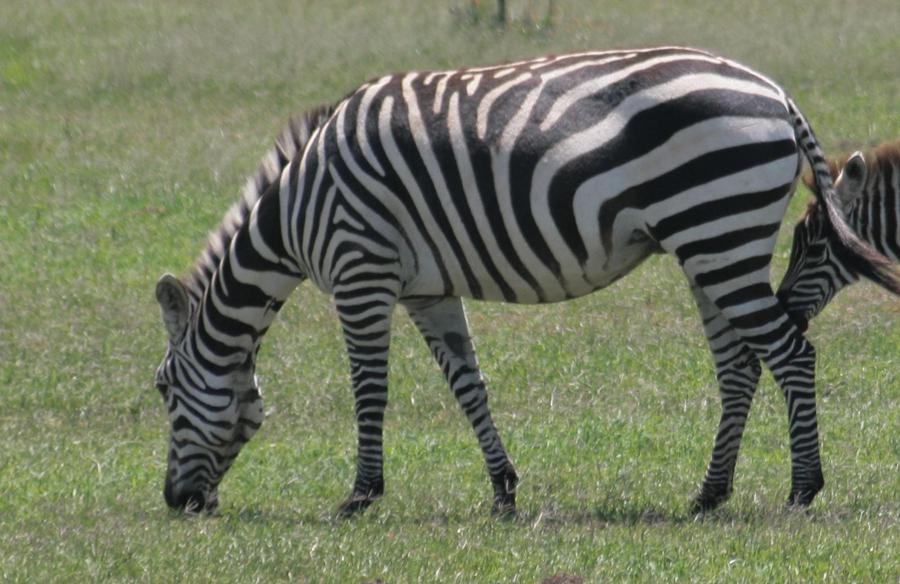zebra_plains: (264, 52, 830, 320)
